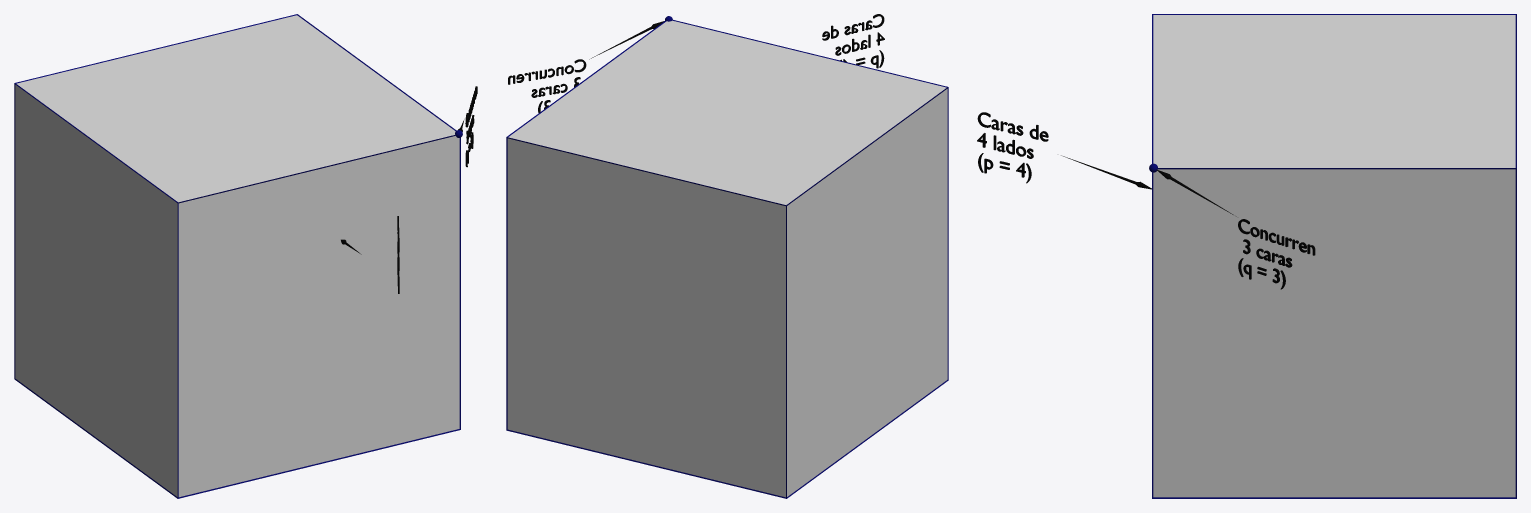
Rendered from def_schafli.glb.
3 renders of one model, left to right at view 1: azimuth 30°, elevation 25°; view 2: azimuth 150°, elevation 25°; view 3: azimuth 270°, elevation 25°, orthographic. The views are drawn at different scales.
Visible parts, largest first — view 1: Cube, Cube.001; view 2: Cube, Cube.001, Text, Text.001; view 3: Cube, Cube.001, Text, Text.001.
Part boxes in pixels (bbox=[...]): Cube: bbox=[15, 15, 459, 497]; Cube.001: bbox=[14, 14, 460, 498]; Cube: bbox=[507, 20, 947, 497]; Cube.001: bbox=[506, 20, 948, 498]; Text: bbox=[822, 14, 884, 68]; Text.001: bbox=[508, 59, 586, 112]; Cube: bbox=[1153, 15, 1515, 497]; Cube.001: bbox=[1152, 14, 1516, 498]; Text: bbox=[977, 112, 1048, 183]; Text.001: bbox=[1238, 219, 1315, 289].
Size of the model in its own units: 2.64 by 2.03 by 2.97.
